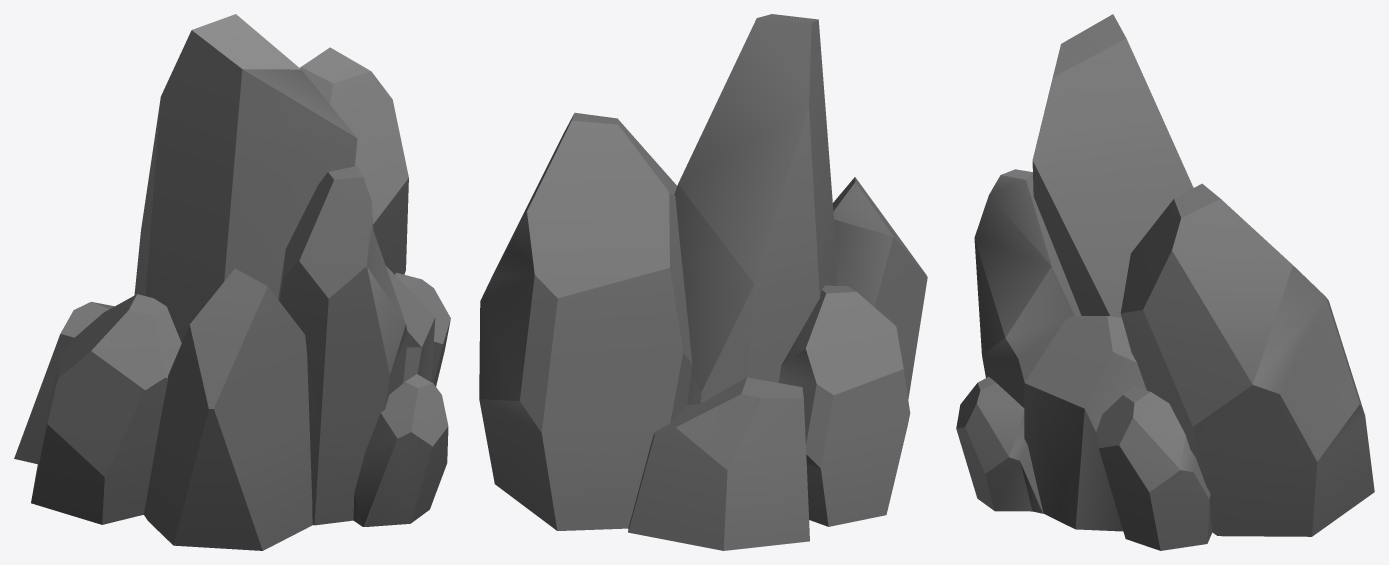
The model's file is RockFormation_1.fbx.
The picture shows the model from 3 angles, left to right: view 1: azimuth 30°, elevation 25°; view 2: azimuth 150°, elevation 25°; view 3: azimuth 270°, elevation 25°; orthographic projection. The views are drawn at different scales.
Visible parts, largest first — view 1: RockFormation_1; view 2: RockFormation_1; view 3: RockFormation_1.
Boxes of the visible parts, x1=… form: RockFormation_1: x1=14, y1=14, x2=450, y2=550; RockFormation_1: x1=479, y1=14, x2=927, y2=550; RockFormation_1: x1=956, y1=14, x2=1374, y2=550.
Size of the model in its own units: 272 by 308 by 277.
